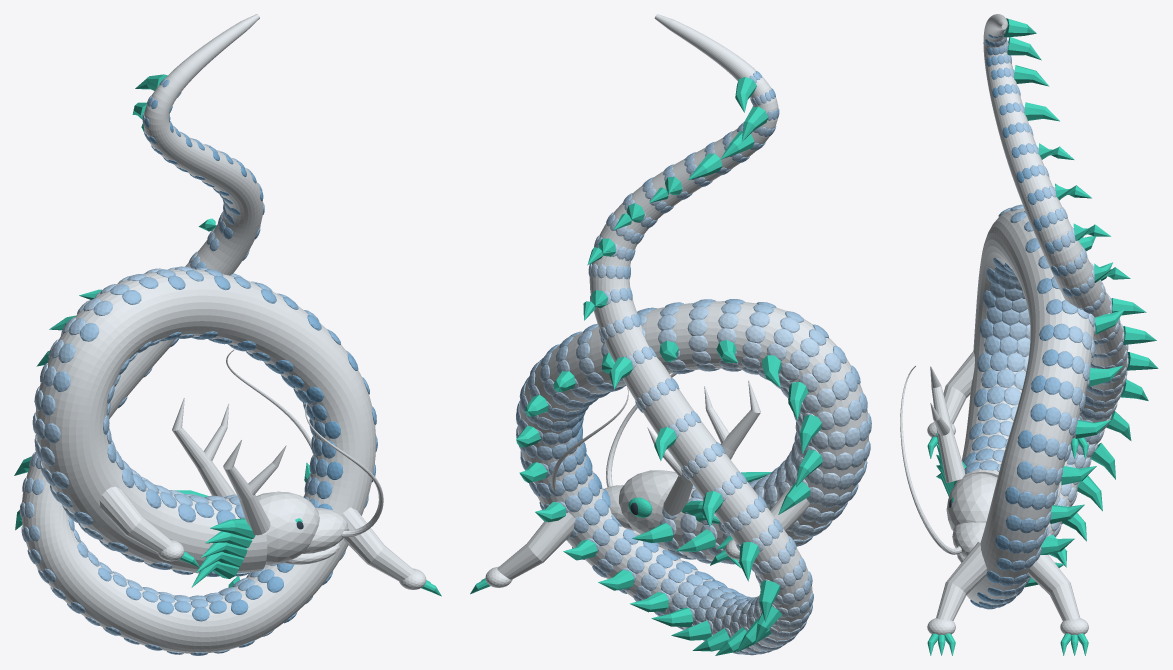
File: Aoki_Odo_Dragon_Silver_Blue_v1.glb
The picture shows the model from 3 angles, left to right: view 1: azimuth 30°, elevation 25°; view 2: azimuth 150°, elevation 25°; view 3: azimuth 270°, elevation 25°; orthographic projection. The views are drawn at different scales.
Visible parts, largest first — view 1: world; view 2: world; view 3: world.
Boxes of the visible parts, x1,y1,x2,y2 form: world: (14, 14, 441, 655); world: (470, 14, 871, 655); world: (900, 14, 1158, 655).
Size of the model in its own units: 2.76 by 4.54 by 1.79.
